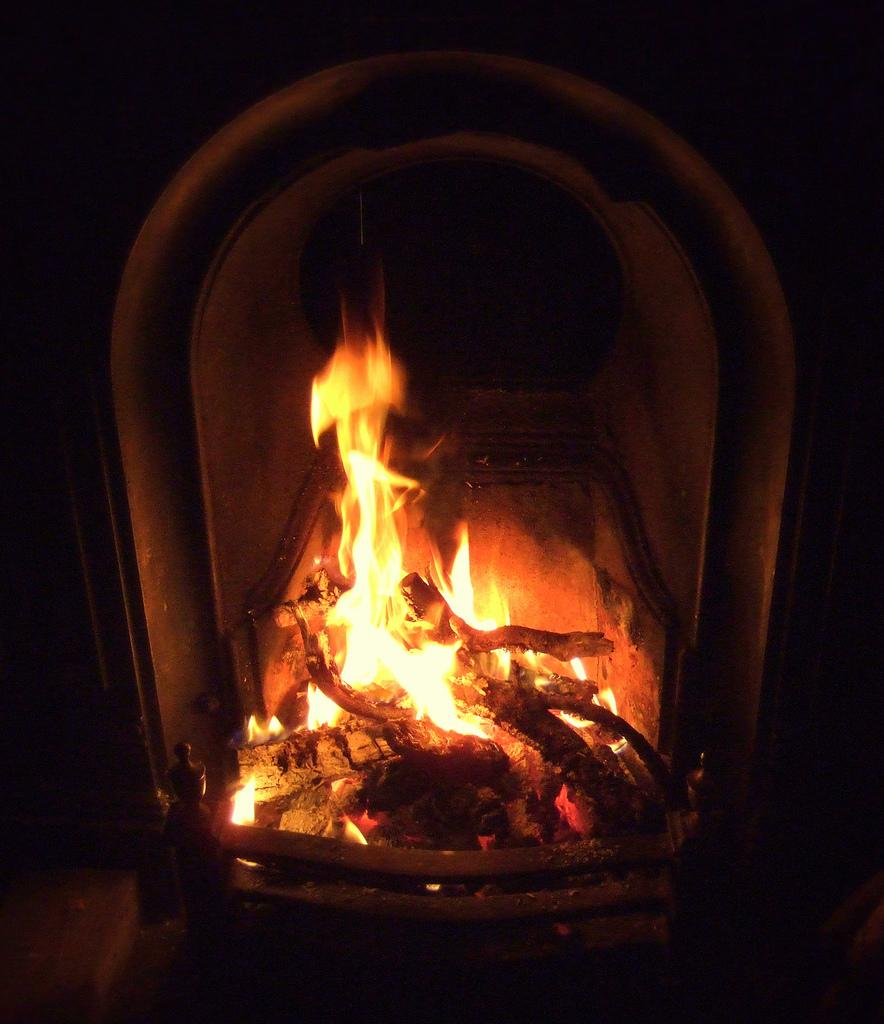fire: (358, 472, 408, 692), (318, 335, 400, 435), (408, 645, 450, 715)
